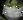with_mask: (1, 2, 23, 20)
